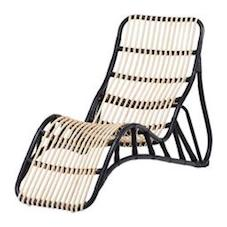chair: (9, 6, 214, 214)
